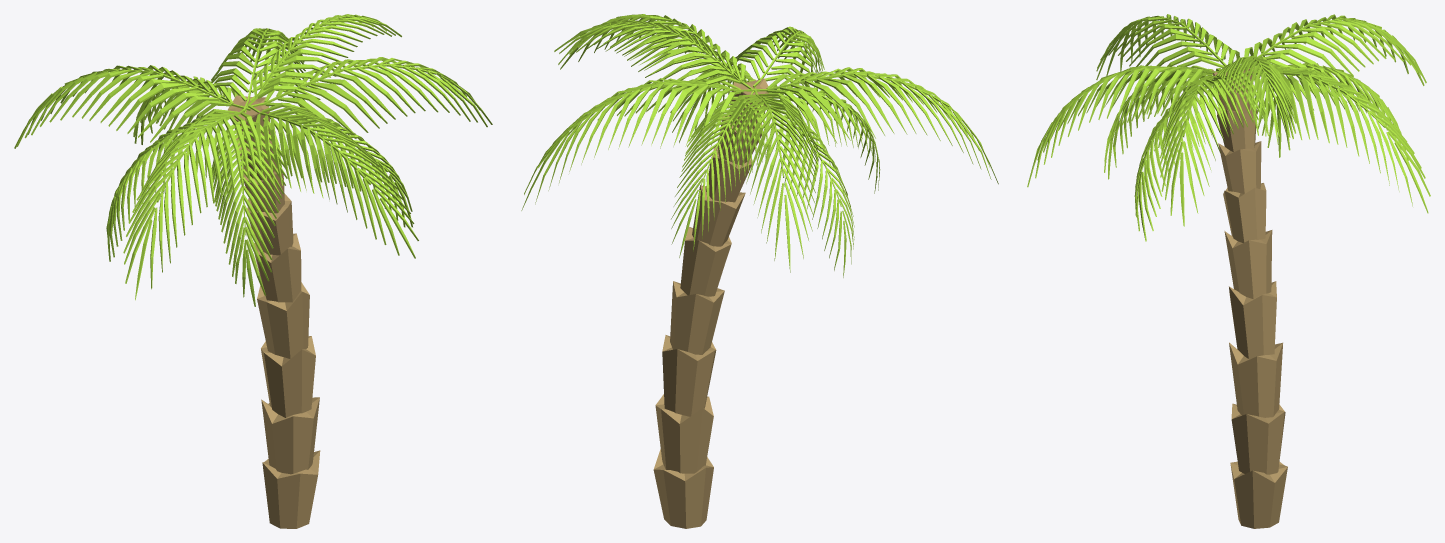
Rendered from tree_1.fbx.
3 views of the same model, side by side, from view 1: azimuth 30°, elevation 25°; view 2: azimuth 150°, elevation 25°; view 3: azimuth 270°, elevation 25° (orthographic). The views are drawn at different scales.
Visible parts, largest first — view 1: tree_1.001; view 2: tree_1.001; view 3: tree_1.001.
Part boxes in pixels (<box>): tree_1.001: <box>14,14,492,528</box>; tree_1.001: <box>521,14,998,528</box>; tree_1.001: <box>1027,14,1430,528</box>.
Bounding box in the file's own units: 5717 × 6680 × 5147.
